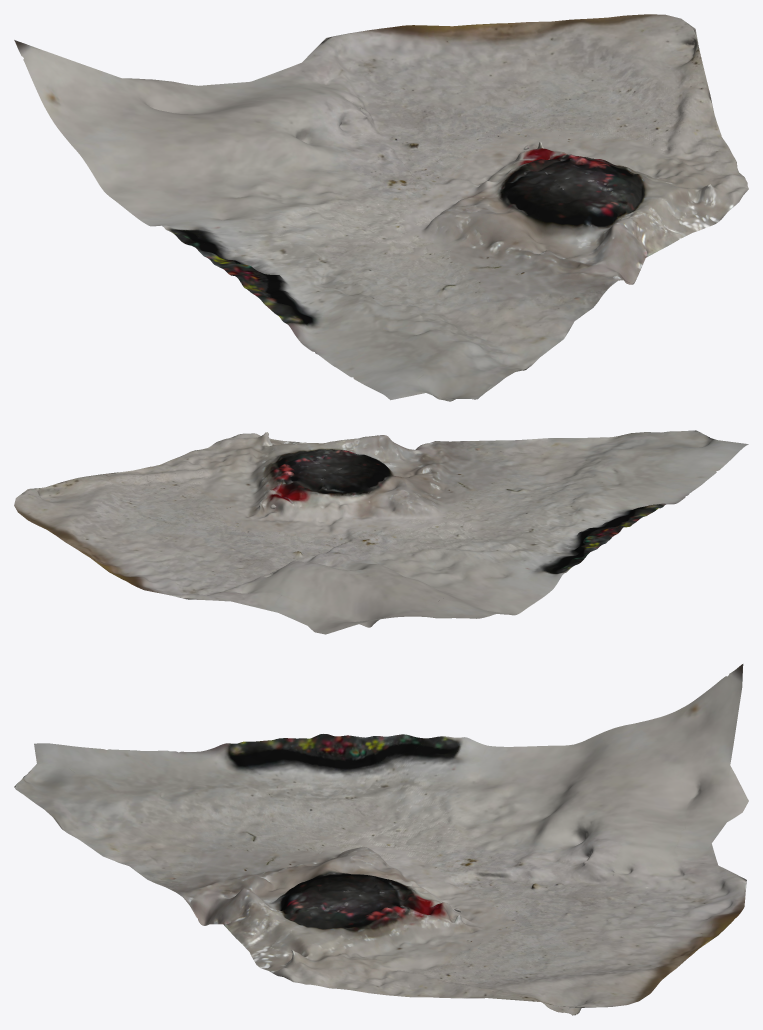
3 renders of one model, top to bottom at view 1: azimuth 30°, elevation 25°; view 2: azimuth 150°, elevation 25°; view 3: azimuth 270°, elevation 25°, orthographic. The views are drawn at different scales.
Bounding box in the file's own units: 2.01 × 0.3727 × 2.27.
1 material, 1 textured.
